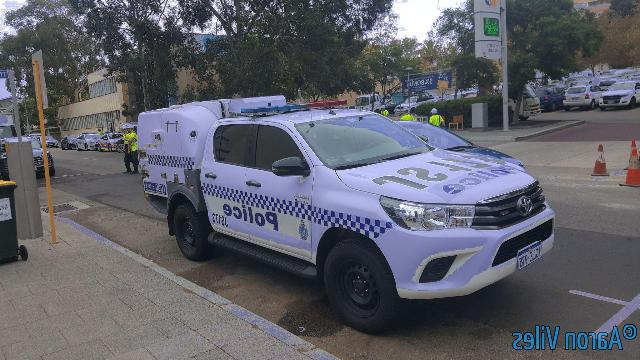police_car: (133, 94, 558, 322)
